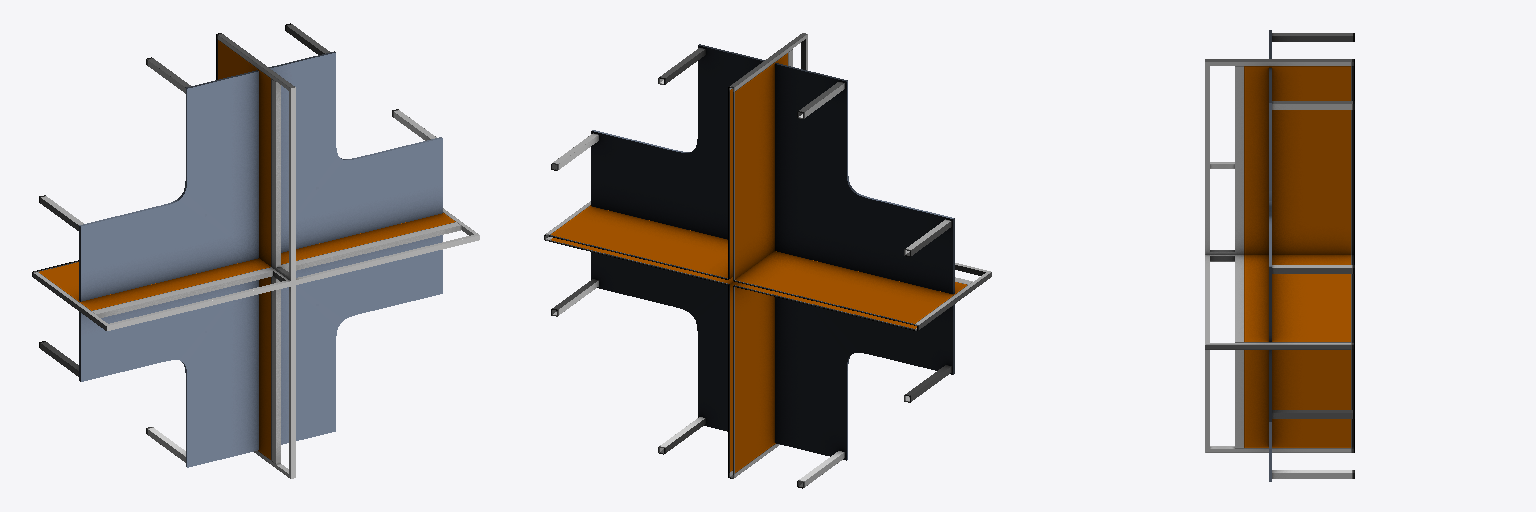
3 renders of one model, left to right at view 1: azimuth 30°, elevation 25°; view 2: azimuth 150°, elevation 25°; view 3: azimuth 270°, elevation 25°, orthographic.
Parts seen in each view (by area): view 1: cubicle_island; view 2: cubicle_island; view 3: cubicle_island.
Boxes of the visible parts, x1,y1,x2,y2 form: cubicle_island: [32, 23, 479, 478]; cubicle_island: [544, 33, 991, 488]; cubicle_island: [1205, 30, 1354, 481].
Bounding box in the file's own units: 382 × 382 × 132.
Materials: 1 (1 with a texture image).